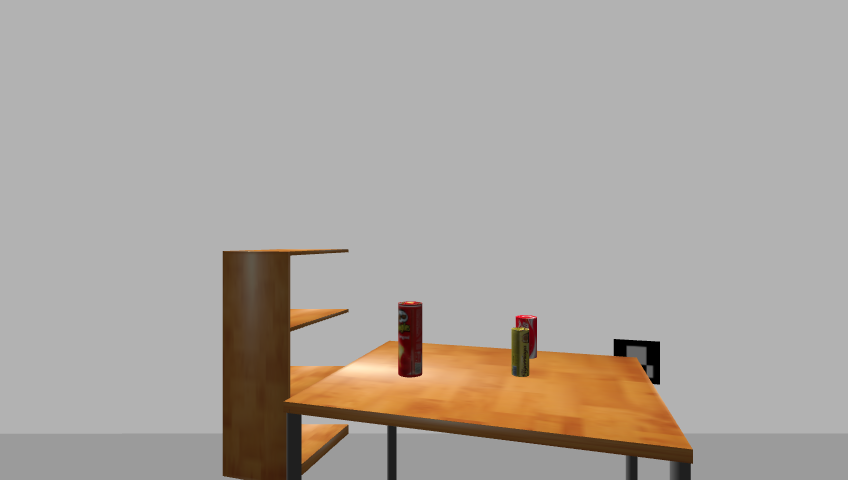aruco marker: (610, 337, 665, 388)
biscuits pack: (510, 327, 529, 378)
bookshelf: (218, 246, 353, 480)
coke can: (516, 315, 539, 358)
dinner table: (281, 340, 700, 479)
pringles can: (396, 302, 424, 380)
